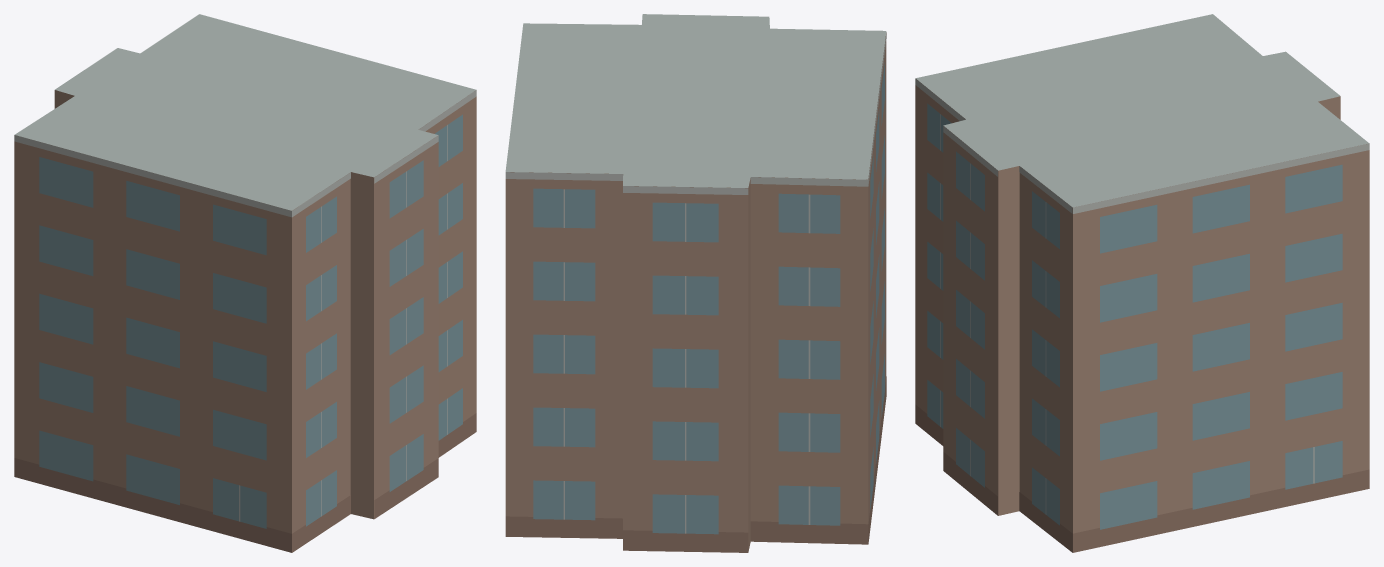
The model's file is survey-upis-32863887.glb.
3 renders of one model, left to right at view 1: azimuth 30°, elevation 25°; view 2: azimuth 150°, elevation 25°; view 3: azimuth 270°, elevation 25°, orthographic. The views are drawn at different scales.
Parts seen in each view (by area): view 1: survey-upis-32863887.tmp; view 2: survey-upis-32863887.tmp; view 3: survey-upis-32863887.tmp.
Part boxes in pixels (x1,y1,x2,y2): survey-upis-32863887.tmp: [14, 14, 476, 552]; survey-upis-32863887.tmp: [505, 14, 886, 552]; survey-upis-32863887.tmp: [915, 14, 1369, 552].
Bounding box in the file's own units: 15.28 × 12.7 × 15.14.
